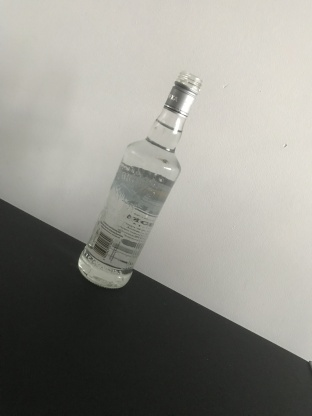nakretka: (162, 68, 203, 119)
